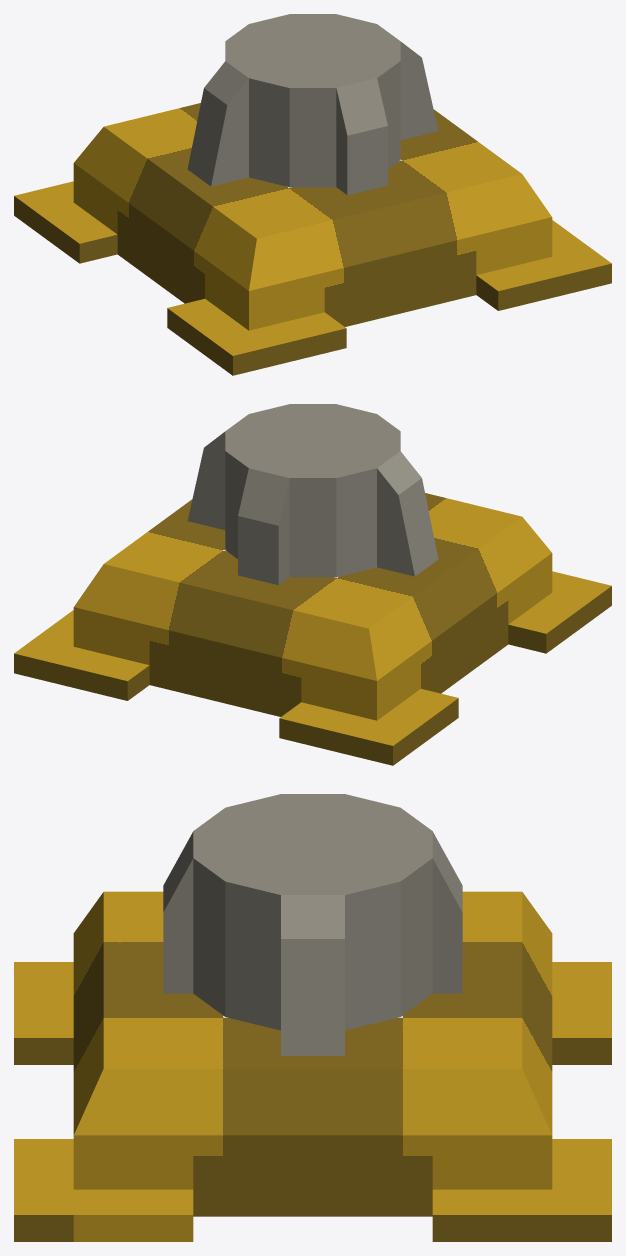
File: BulletSentryBase.obj
3 renders of one model, top to bottom at view 1: azimuth 30°, elevation 25°; view 2: azimuth 150°, elevation 25°; view 3: azimuth 270°, elevation 25°, orthographic. The views are drawn at different scales.
Visible parts, largest first — view 1: cuboid, cylinder; view 2: cuboid, cylinder; view 3: cuboid, cylinder.
Boxes of the visible parts, <box> form: cuboid: <box>14,103,611,375</box>; cylinder: <box>187,14,438,195</box>; cuboid: <box>14,493,611,765</box>; cylinder: <box>187,404,438,585</box>; cuboid: <box>14,891,611,1241</box>; cylinder: <box>163,794,462,1055</box>.
Size of the model in its own units: 1.25 by 0.625 by 1.25.
Materials: 1 (1 with a texture image).
